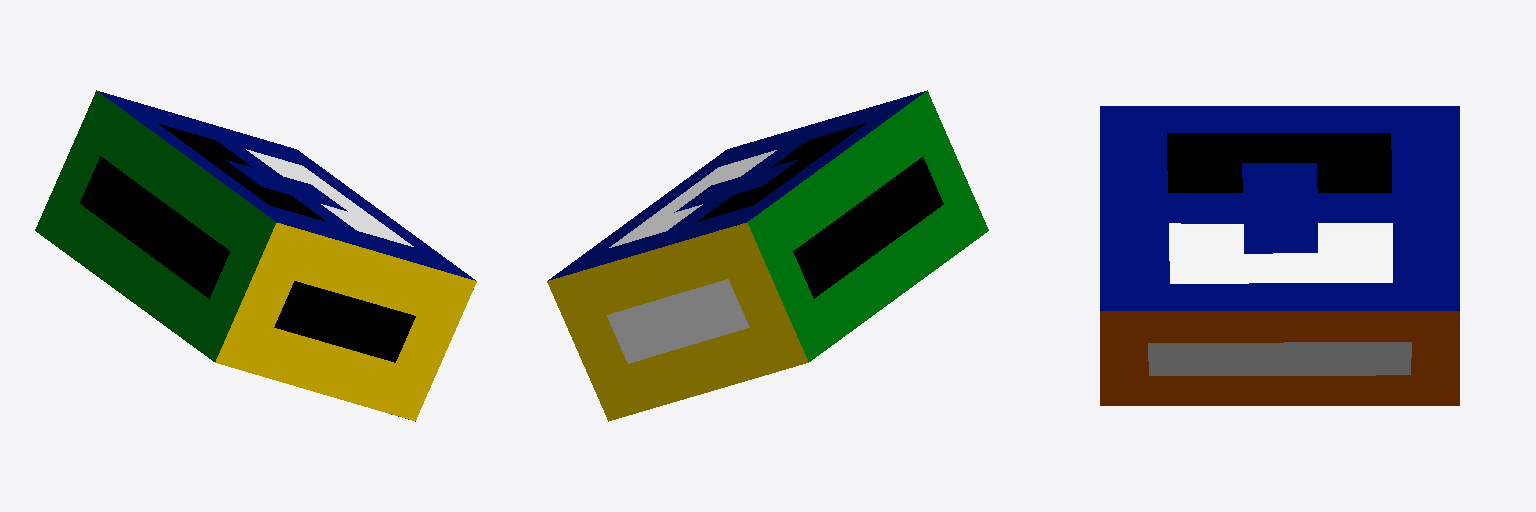
3 renders of one model, left to right at view 1: azimuth 30°, elevation 25°; view 2: azimuth 150°, elevation 25°; view 3: azimuth 270°, elevation 25°, orthographic.
Visible parts, largest first — view 1: Cube; view 2: Cube; view 3: Cube.
Boxes of the visible parts, x1,y1,x2,y2 form: Cube: [35, 90, 476, 421]; Cube: [547, 90, 988, 421]; Cube: [1100, 106, 1459, 405].
Size of the model in its own units: 0.2952 by 0.251 by 0.3517.
1 materials, 1 textured.